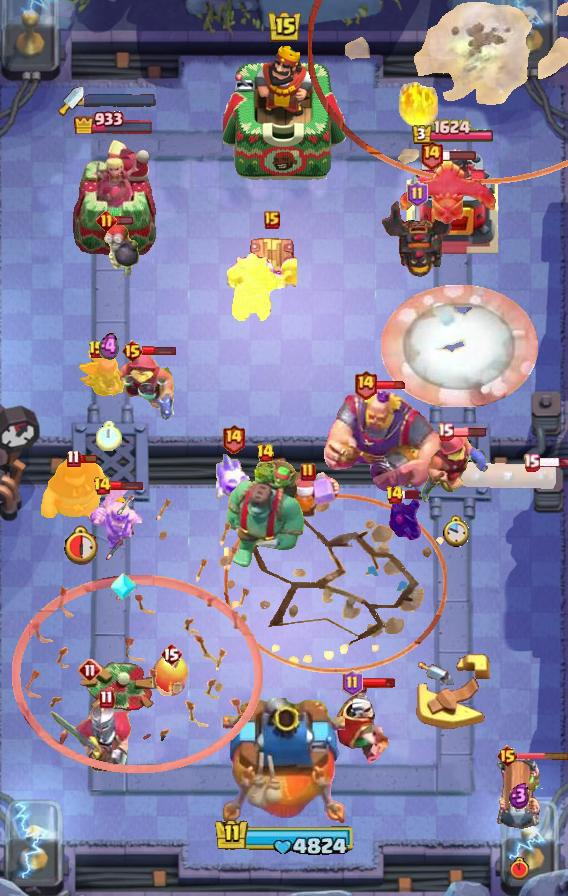archer-evolution: (380, 197, 454, 279)
arrows: (88, 485, 143, 551)
bar: (70, 138, 158, 256)
battle-healer: (495, 754, 543, 834)
battle-ram: (386, 495, 424, 545)
clock: (210, 817, 358, 859)
electro-spirit: (99, 332, 119, 362), (509, 783, 531, 810)
elixir: (64, 524, 102, 565), (443, 516, 469, 548), (96, 421, 122, 451), (510, 856, 530, 880)
emote: (516, 751, 568, 761), (441, 149, 477, 161), (142, 344, 178, 356), (451, 426, 487, 438), (360, 677, 396, 689), (108, 481, 144, 492), (538, 456, 568, 468), (376, 380, 408, 390), (114, 215, 134, 226), (78, 453, 98, 464), (401, 488, 421, 499)
evolution-symbol: (76, 350, 142, 402)
fireball: (419, 431, 491, 505), (114, 353, 176, 423)
freeze: (225, 252, 297, 322)
goblin-brawler: (248, 234, 296, 278)
guard: (224, 495, 447, 674)
hog: (151, 654, 191, 698)
ice-golem: (102, 221, 140, 277)
king-tower: (223, 43, 345, 181), (223, 698, 345, 826)
king-tower-bar: (84, 93, 156, 107)
lava-hound: (223, 457, 307, 569)
lightning: (323, 389, 444, 495)
mighty-miner: (274, 470, 342, 526)
minion: (460, 458, 568, 494)
mirror: (213, 451, 253, 503)
mother-witch: (398, 154, 498, 226)
pad_2: (110, 571, 138, 603)
queen-tower: (403, 146, 503, 256)
royal-ghost: (308, 0, 568, 184)
royal-hog: (36, 454, 130, 524)
selected: (411, 118, 495, 145), (73, 108, 155, 134)
skeleton-barrel: (12, 493, 265, 773)
skeleton-king: (334, 685, 394, 771)
text: (353, 368, 378, 399), (222, 422, 247, 453), (419, 139, 444, 169), (78, 658, 102, 682), (120, 339, 143, 363), (496, 744, 519, 768), (407, 181, 428, 207), (341, 670, 362, 696), (160, 642, 182, 666), (96, 210, 117, 231), (256, 443, 276, 463), (384, 485, 404, 505), (92, 476, 111, 496), (88, 340, 106, 360), (300, 462, 316, 482), (437, 423, 454, 441), (524, 453, 541, 471), (264, 211, 280, 229), (67, 449, 82, 468)
valkyrie: (395, 78, 443, 130)
wall-breaker: (380, 285, 538, 407)
wall-breaker-evolution: (47, 686, 133, 778)
